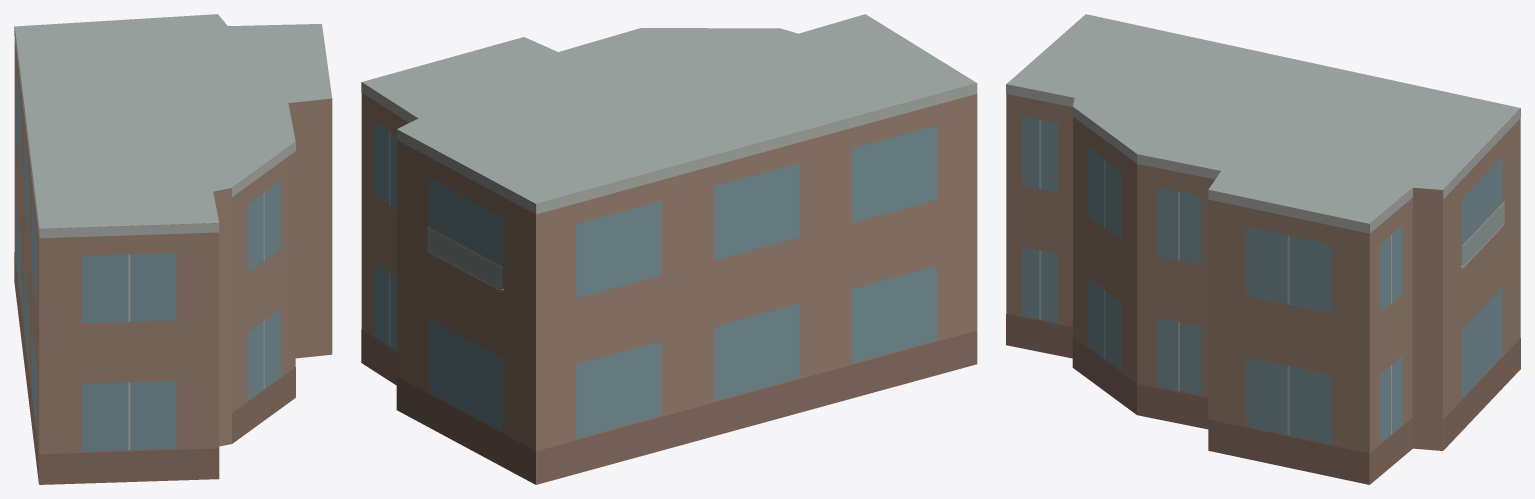
Rendered from survey-upis-32638759.glb.
The picture shows the model from 3 angles, left to right: view 1: azimuth 30°, elevation 25°; view 2: azimuth 150°, elevation 25°; view 3: azimuth 270°, elevation 25°; orthographic projection. The views are drawn at different scales.
Parts seen in each view (by area): view 1: survey-upis-32638759.tmp; view 2: survey-upis-32638759.tmp; view 3: survey-upis-32638759.tmp.
Boxes of the visible parts, x1,y1,x2,y2 form: survey-upis-32638759.tmp: [14, 14, 332, 484]; survey-upis-32638759.tmp: [361, 14, 977, 484]; survey-upis-32638759.tmp: [1006, 14, 1520, 484].
Size of the model in its own units: 11.22 by 6.5 by 11.62.
